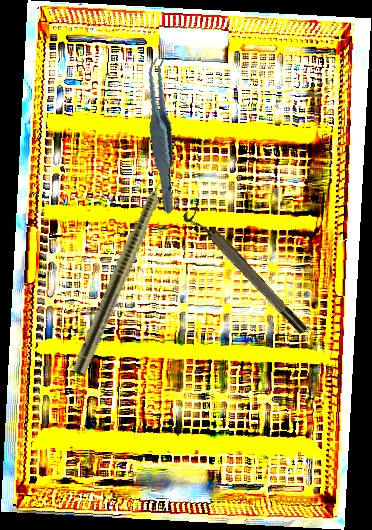Fixation Ring: (181, 201, 310, 342)
Handpiece: (71, 156, 179, 377)
Tissue Forceps: (129, 53, 195, 215)
